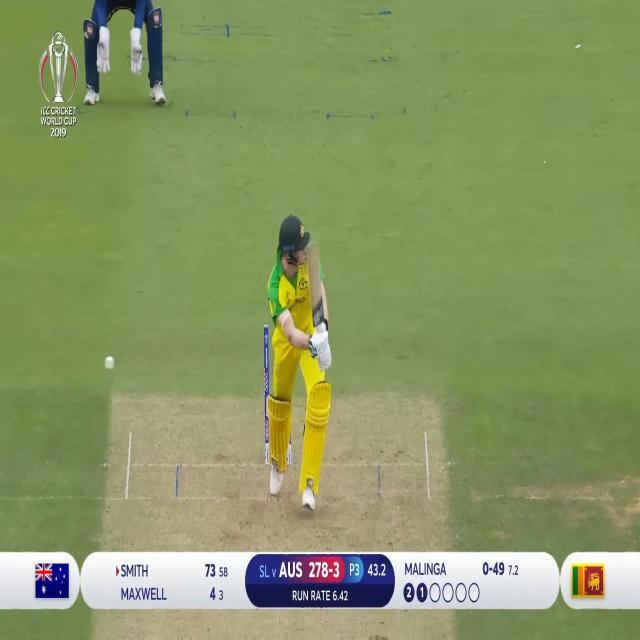ball: (104, 353, 116, 377)
